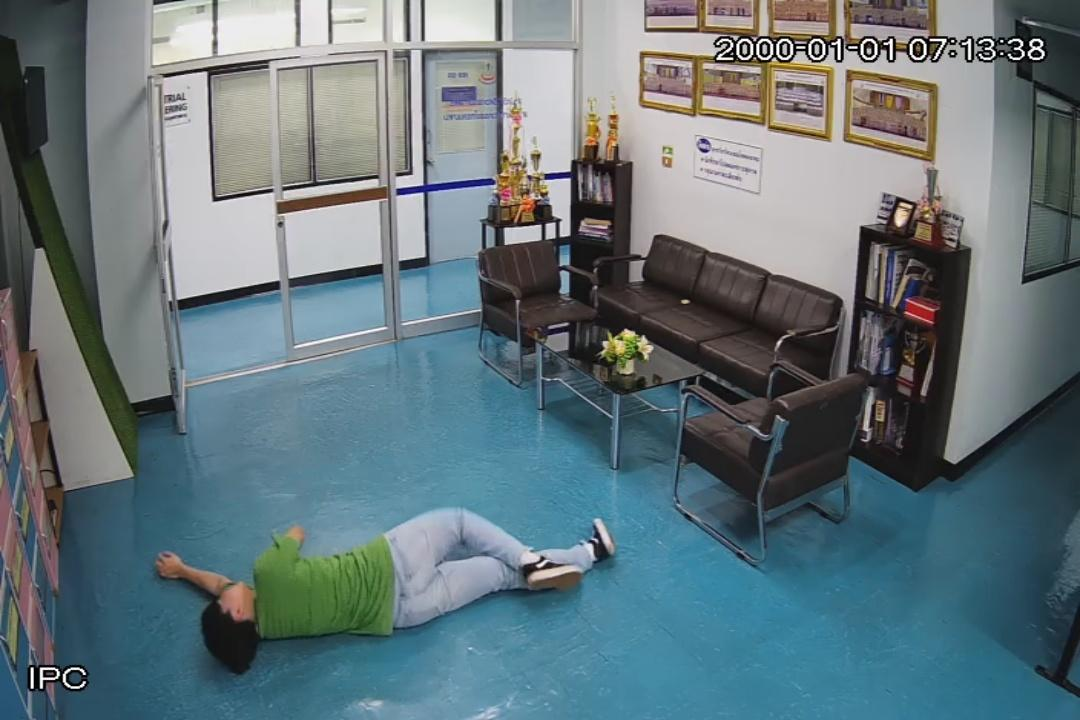fall: (156, 504, 608, 674)
